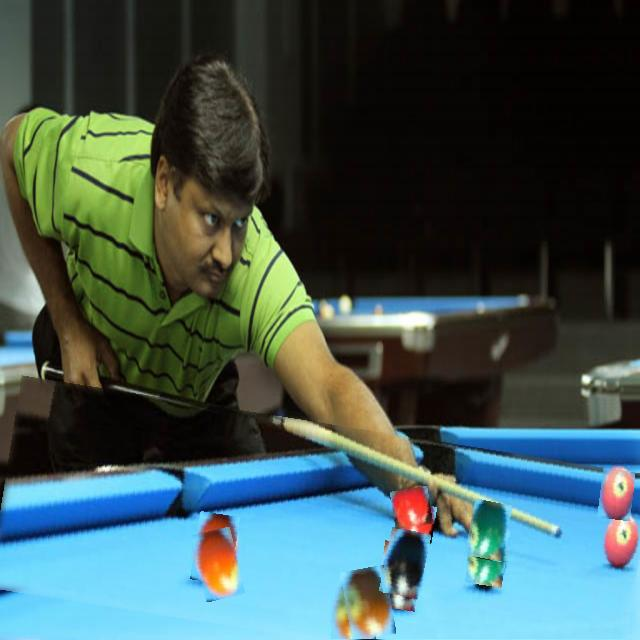Ball: (343, 567, 394, 640), (194, 528, 242, 601), (382, 528, 428, 598), (468, 500, 510, 561), (599, 469, 634, 520), (392, 488, 432, 528)
Billiard table: (0, 399, 640, 640)
